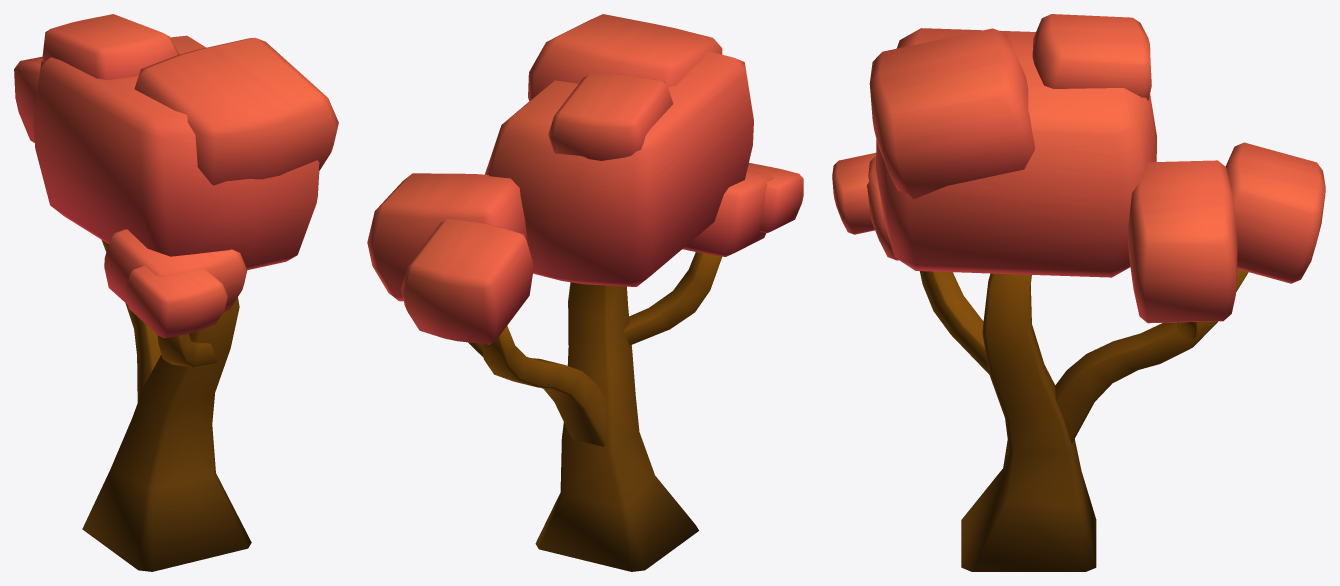
File: Tree_3_2.glb
3 views of the same model, side by side, from view 1: azimuth 30°, elevation 25°; view 2: azimuth 150°, elevation 25°; view 3: azimuth 270°, elevation 25° (orthographic). The views are drawn at different scales.
Visible parts, largest first — view 1: Tree_3_2; view 2: Tree_3_2; view 3: Tree_3_2.
Part boxes in pixels (x1,y1,x2,y2): Tree_3_2: [14, 14, 338, 571]; Tree_3_2: [367, 14, 803, 571]; Tree_3_2: [832, 14, 1325, 571].
Bounding box in the file's own units: 2.41 × 4.13 × 3.68.
Materials: 1 (1 with a texture image).
